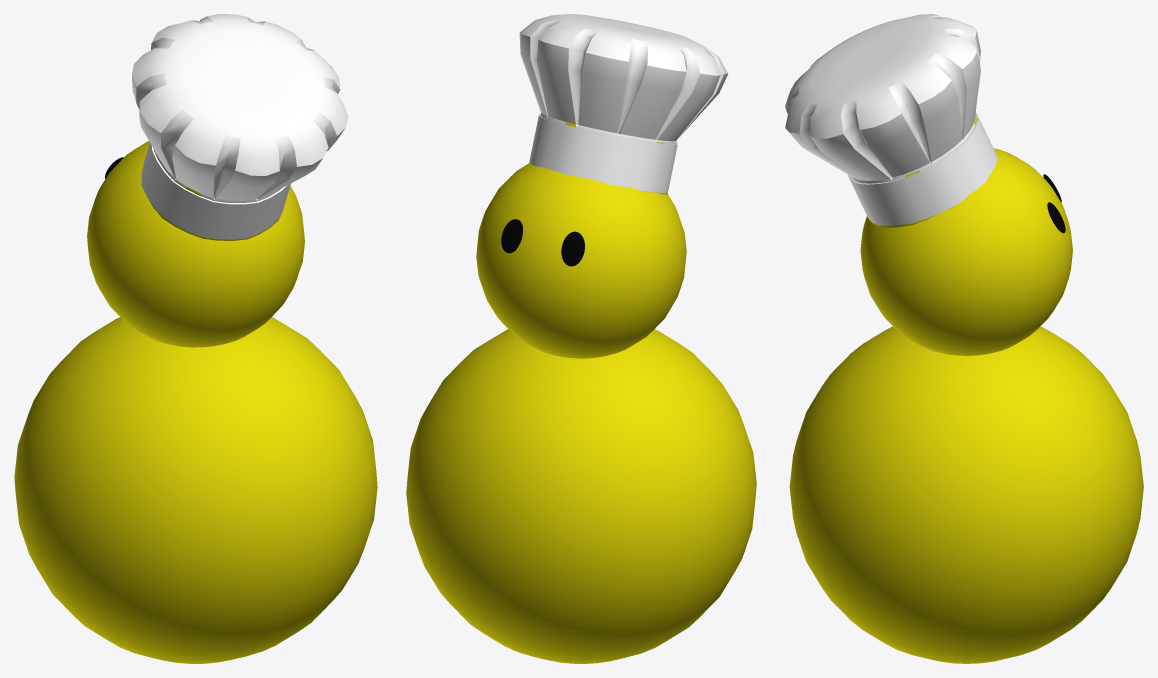
The model's file is PlayerFbx.fbx.
3 renders of one model, left to right at view 1: azimuth 30°, elevation 25°; view 2: azimuth 150°, elevation 25°; view 3: azimuth 270°, elevation 25°, orthographic. The views are drawn at different scales.
Parts seen in each view (by area): view 1: Body, Hat, Head; view 2: Body, Head, Hat, Left_Eye, Right_Eye; view 3: Body, Hat, Head.
Boxes of the visible parts, <box> form: Body: <box>14,317,377,663</box>; Hat: <box>132,14,347,240</box>; Head: <box>87,141,304,347</box>; Body: <box>406,329,756,663</box>; Head: <box>476,163,686,358</box>; Hat: <box>519,14,728,194</box>; Left_Eye: <box>561,231,584,266</box>; Right_Eye: <box>501,219,522,253</box>; Body: <box>789,326,1143,663</box>; Hat: <box>785,14,997,227</box>; Head: <box>860,148,1072,355</box>.
Size of the model in its own units: 200 by 383 by 203.
